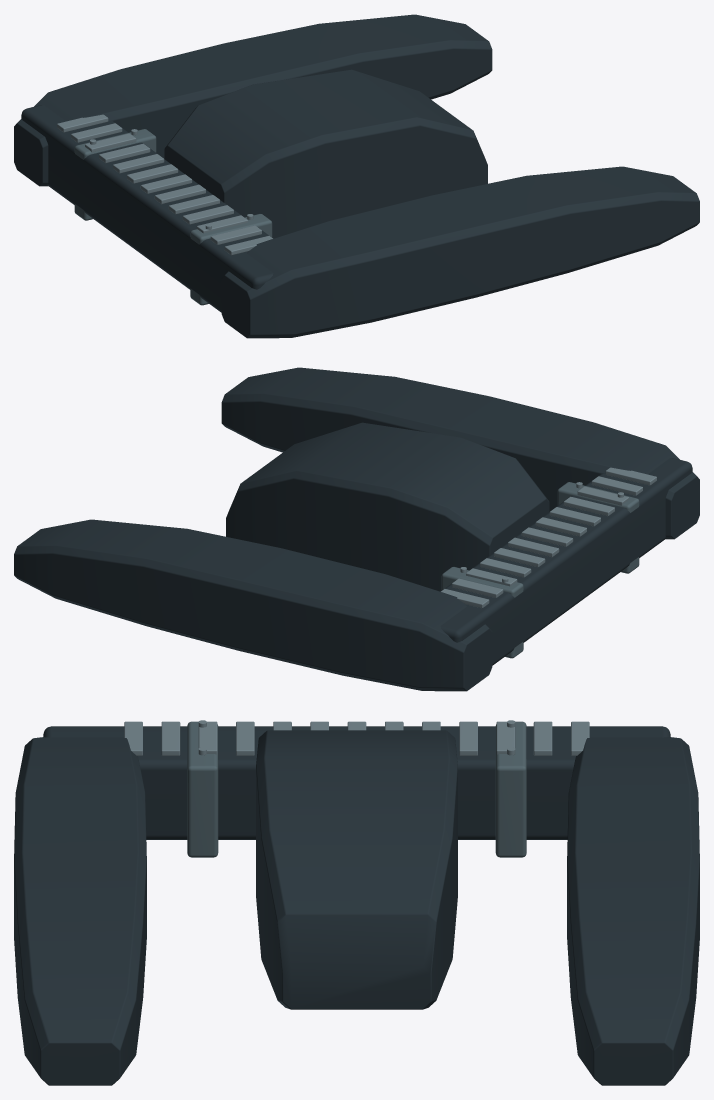
Rendered from SM_Refit_Frame.fbx.
3 renders of one model, top to bottom at view 1: azimuth 30°, elevation 25°; view 2: azimuth 150°, elevation 25°; view 3: azimuth 270°, elevation 25°, orthographic. The views are drawn at different scales.
Parts seen in each view (by area): view 1: SM_Refit_Frame; view 2: SM_Refit_Frame; view 3: SM_Refit_Frame.
Boxes of the visible parts, bbox=[...] form: SM_Refit_Frame: bbox=[14, 14, 699, 338]; SM_Refit_Frame: bbox=[14, 367, 699, 691]; SM_Refit_Frame: bbox=[14, 720, 699, 1085].
Size of the model in its own units: 1300 by 1290 by 315.
